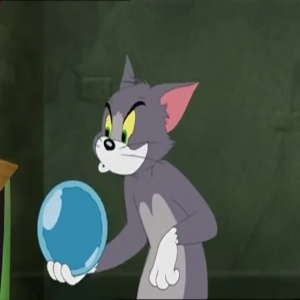Tom: (88, 59, 202, 179)
